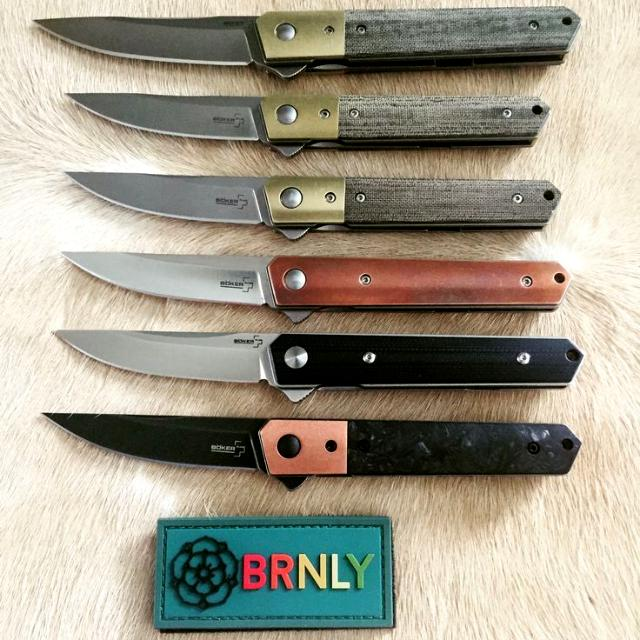pocket-knife: (40, 305, 592, 419), (25, 398, 583, 494), (41, 159, 581, 255), (48, 235, 586, 328), (57, 80, 571, 168), (24, 7, 588, 78)
